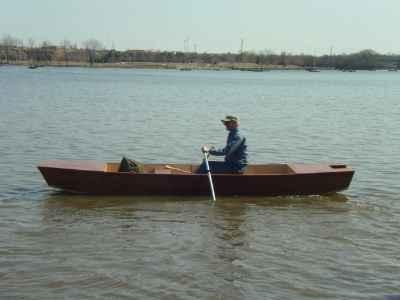person: (200, 115, 250, 176)
